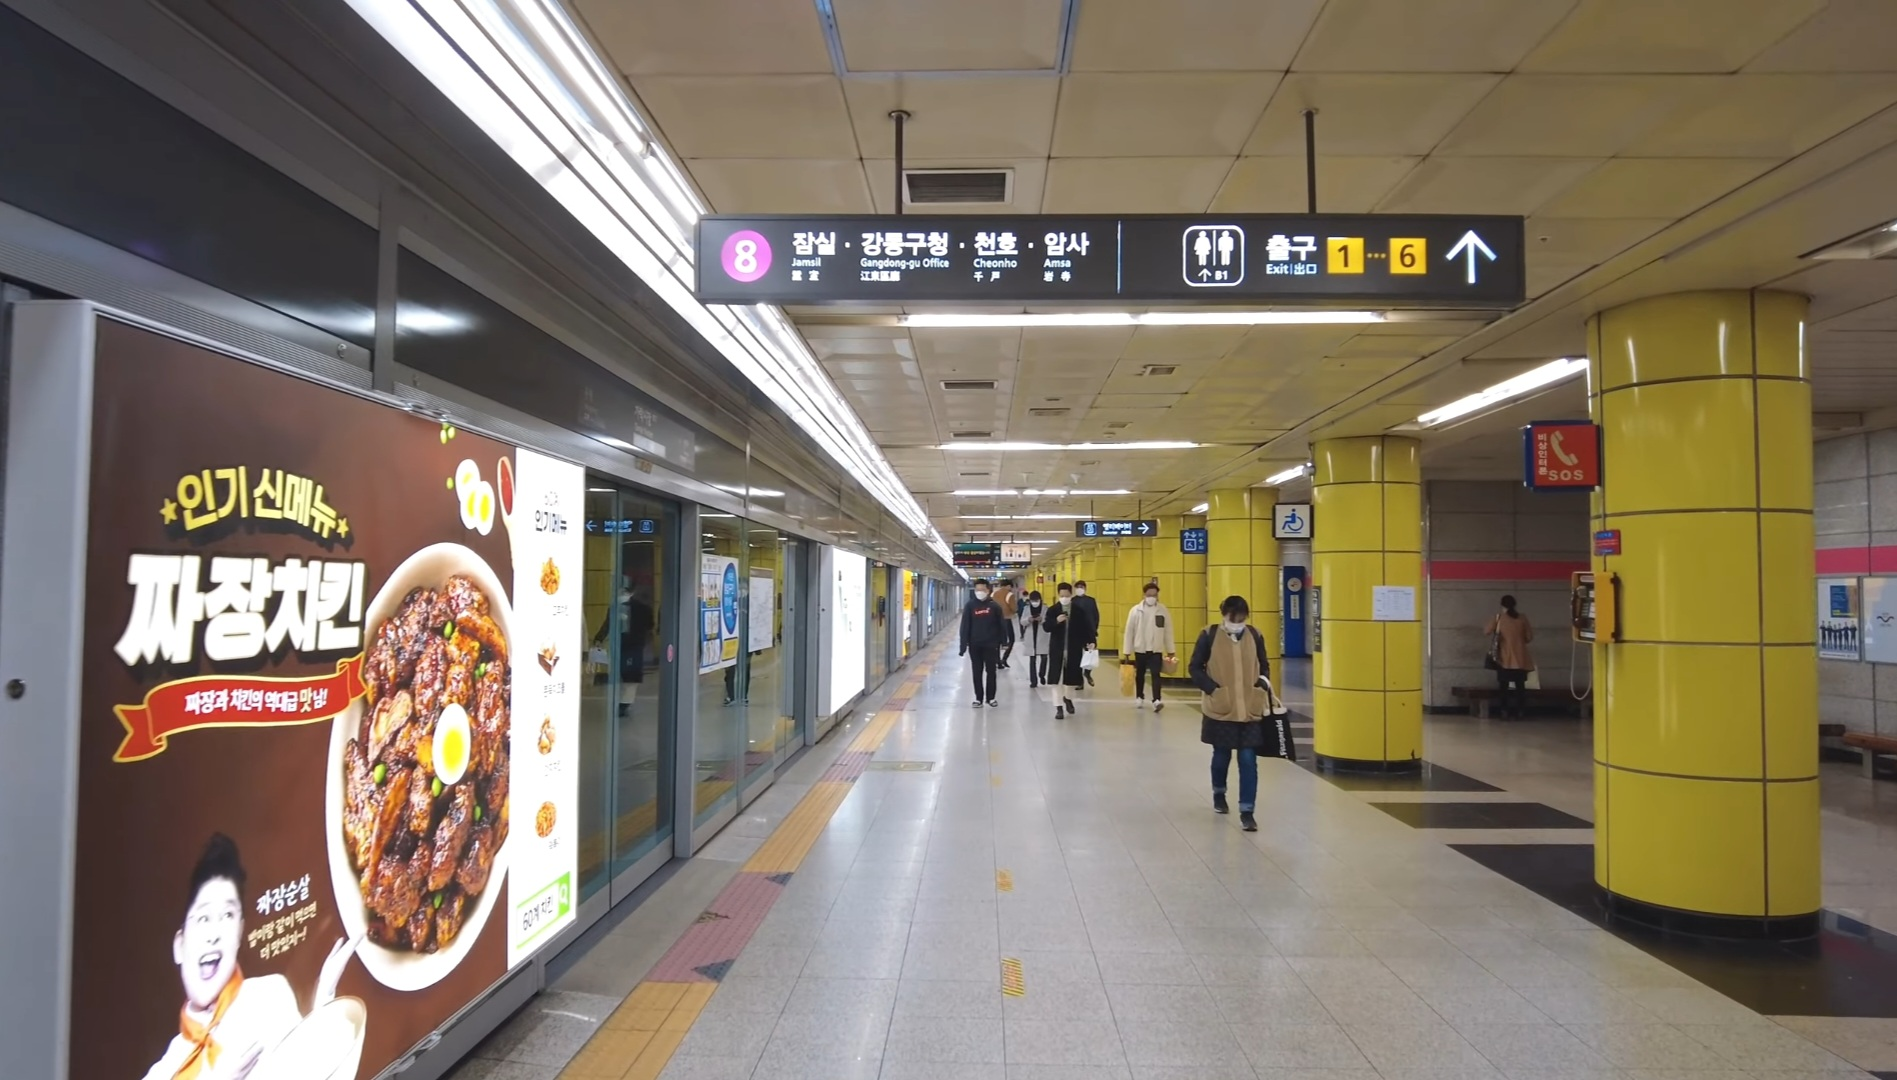signBoard: (694, 190, 1541, 314)
